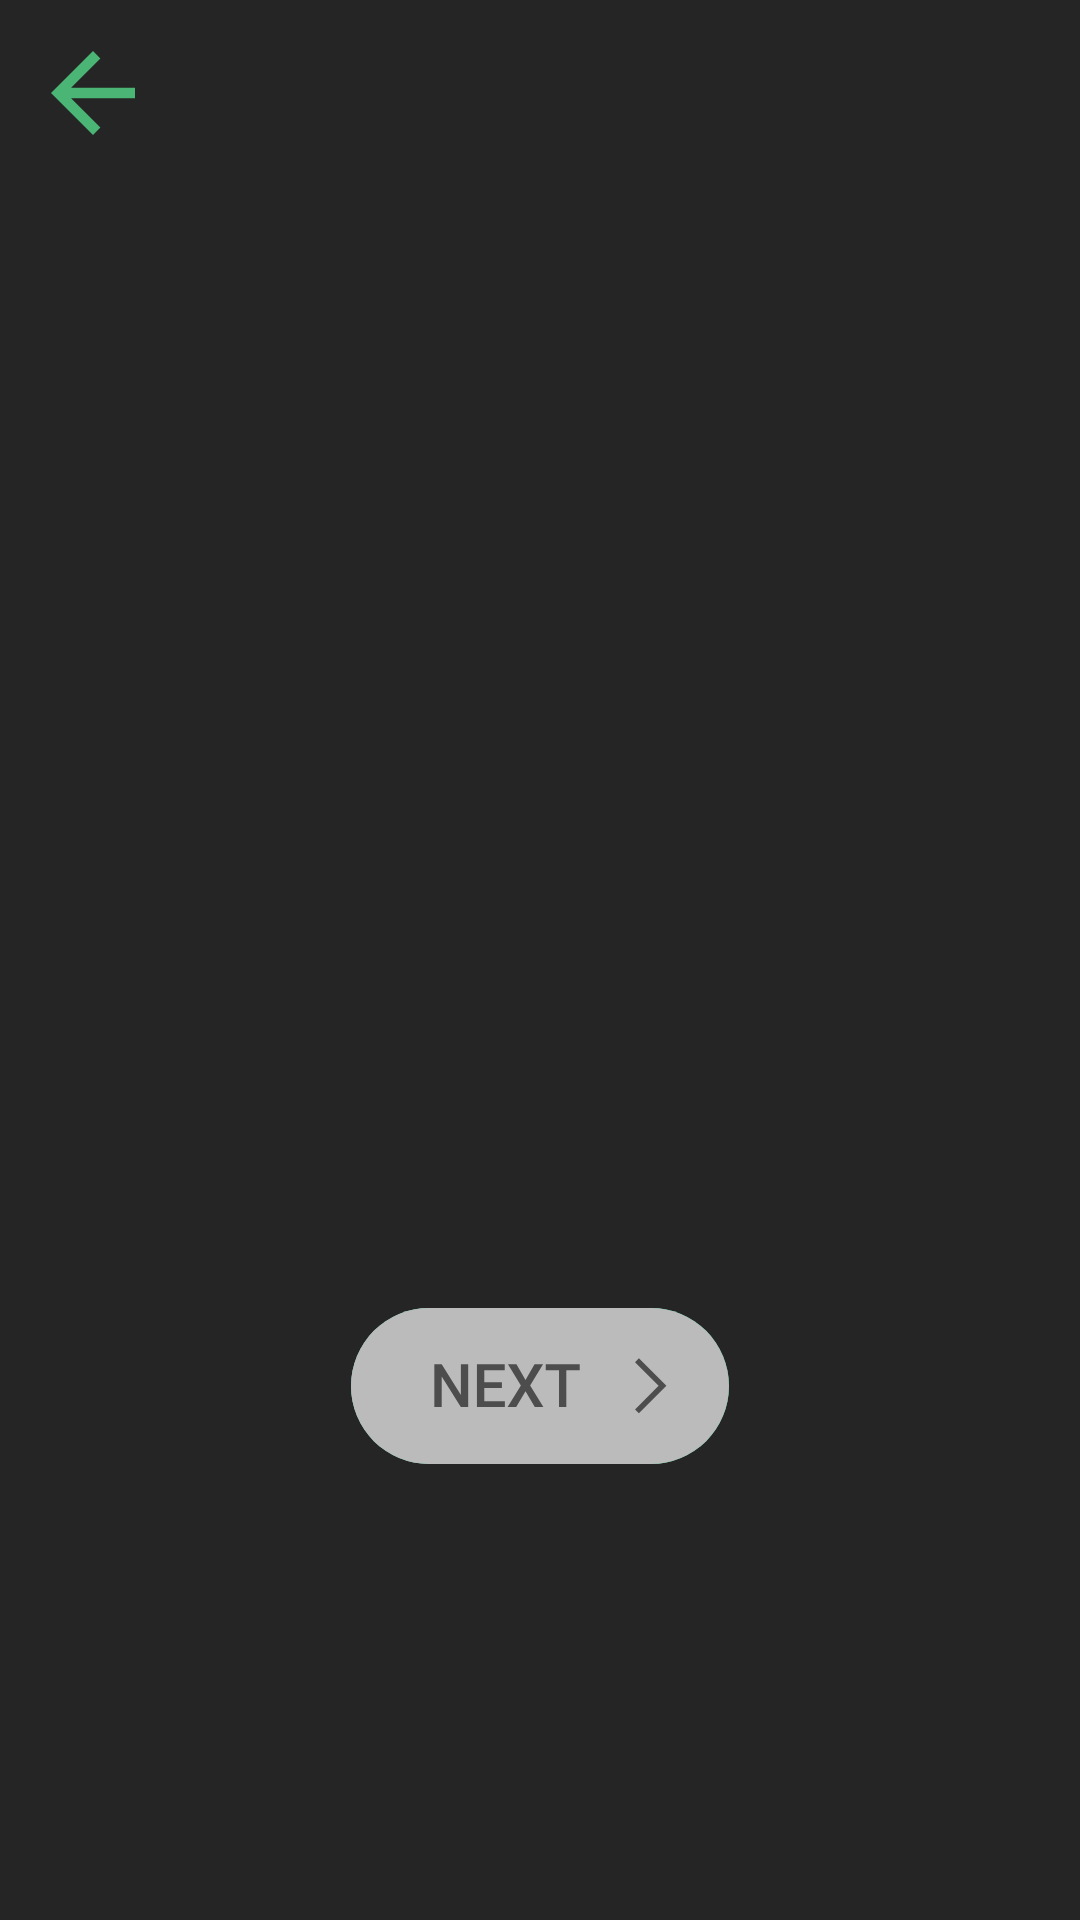

Where to tap for icons on this 1080*1920 app screen, as point (x, y):
back step arrow: point (93, 93)
